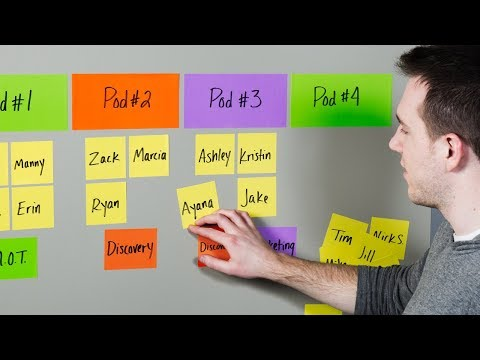stickynote: (70, 72, 181, 130), (182, 72, 290, 130), (289, 71, 394, 129), (1, 73, 69, 134), (102, 227, 161, 270), (8, 139, 56, 186), (9, 184, 57, 231), (176, 180, 223, 227), (127, 133, 173, 179), (83, 181, 129, 226), (83, 133, 126, 180), (193, 131, 237, 176), (1, 233, 42, 281), (236, 131, 278, 175), (323, 212, 365, 256), (236, 174, 277, 219), (369, 215, 409, 260), (1, 187, 11, 229), (1, 140, 10, 185)
